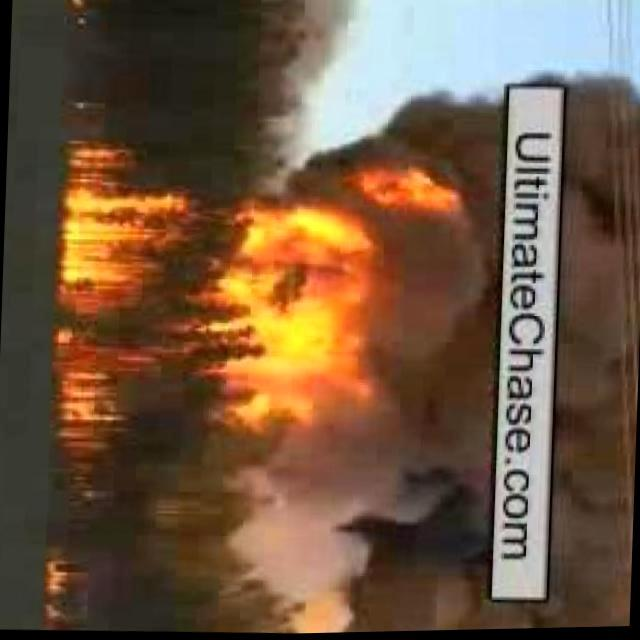fire: (50, 140, 208, 484), (215, 192, 382, 460), (354, 156, 454, 220), (41, 554, 83, 626)
